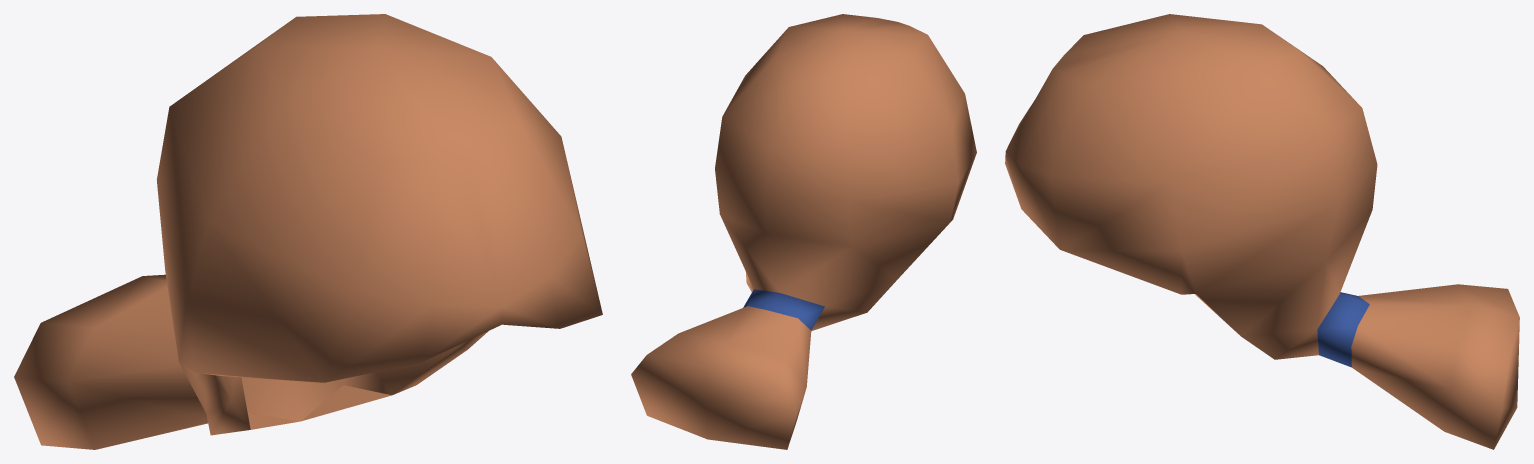
The model's file is HipsterPonytail2.fbx.
The picture shows the model from 3 angles, left to right: view 1: azimuth 30°, elevation 25°; view 2: azimuth 150°, elevation 25°; view 3: azimuth 270°, elevation 25°; orthographic projection. The views are drawn at different scales.
Visible parts, largest first — view 1: HipsterPonytail2; view 2: HipsterPonytail2; view 3: HipsterPonytail2.
Boxes of the visible parts, x1,y1,x2,y2 form: HipsterPonytail2: (14, 14, 602, 449); HipsterPonytail2: (631, 14, 976, 449); HipsterPonytail2: (1005, 14, 1519, 449).
Size of the model in its own units: 0.2259 by 0.294 by 0.3648.
